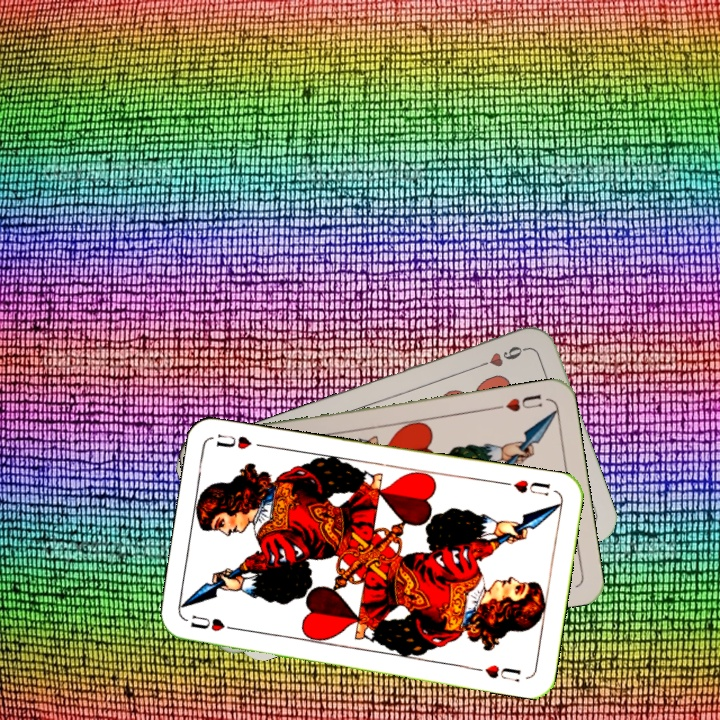H9: (473, 342, 530, 371)
HU: (186, 611, 243, 634), (491, 391, 545, 415), (499, 475, 553, 498)
